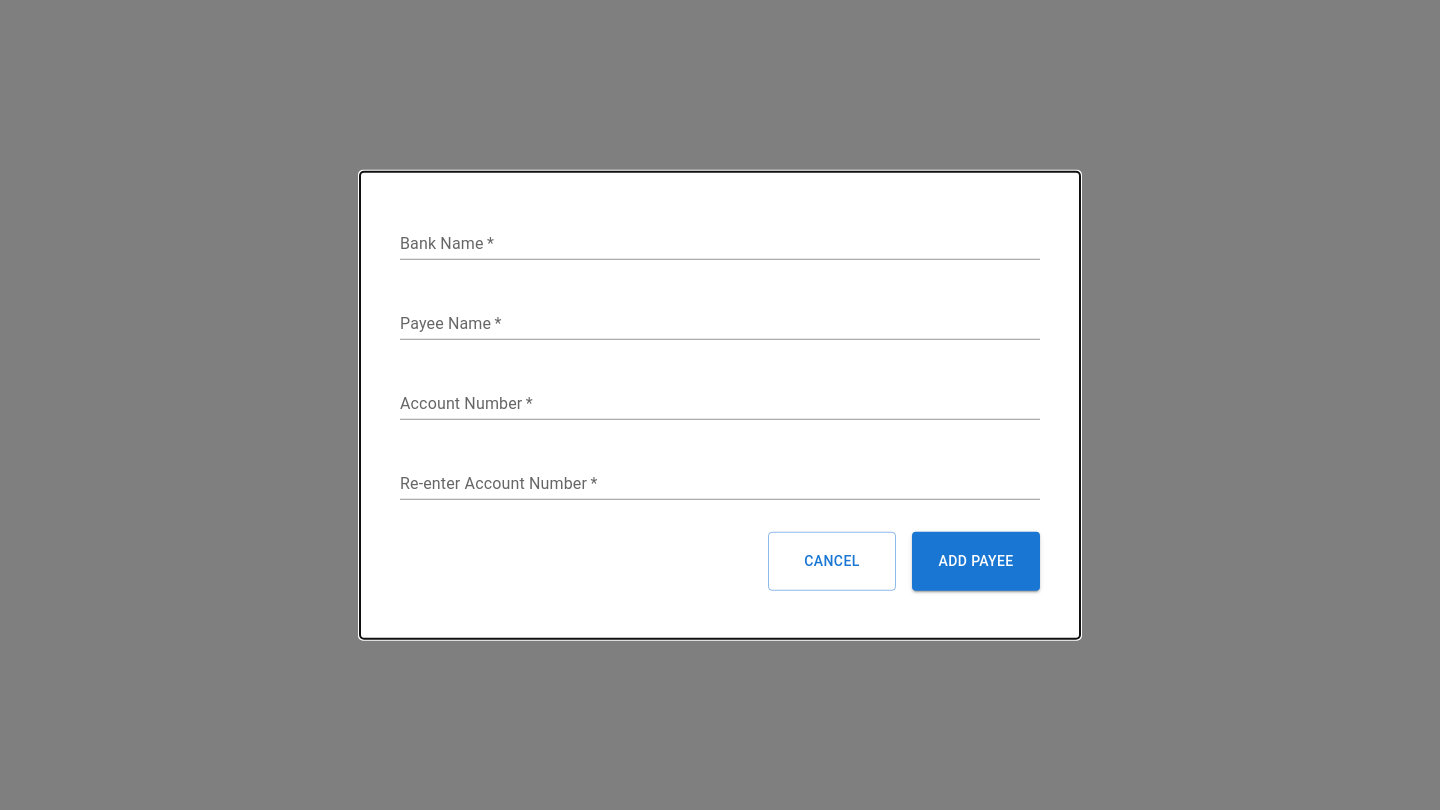
Test case: TS:1 - AddPayeeModal Component › TC:02 - should show error messages if form is not filled and trying to submit
The width and height of the screenshot is (1440, 810).
expect the field labelled "Bank Name *" is shown: met, box [400,228,1040,260]
expect the field labelled "Payee Name *" is shown: met, box [400,308,1040,340]
Click the button "Add Payee". click: (976, 561)
box: [912,532,1040,590]
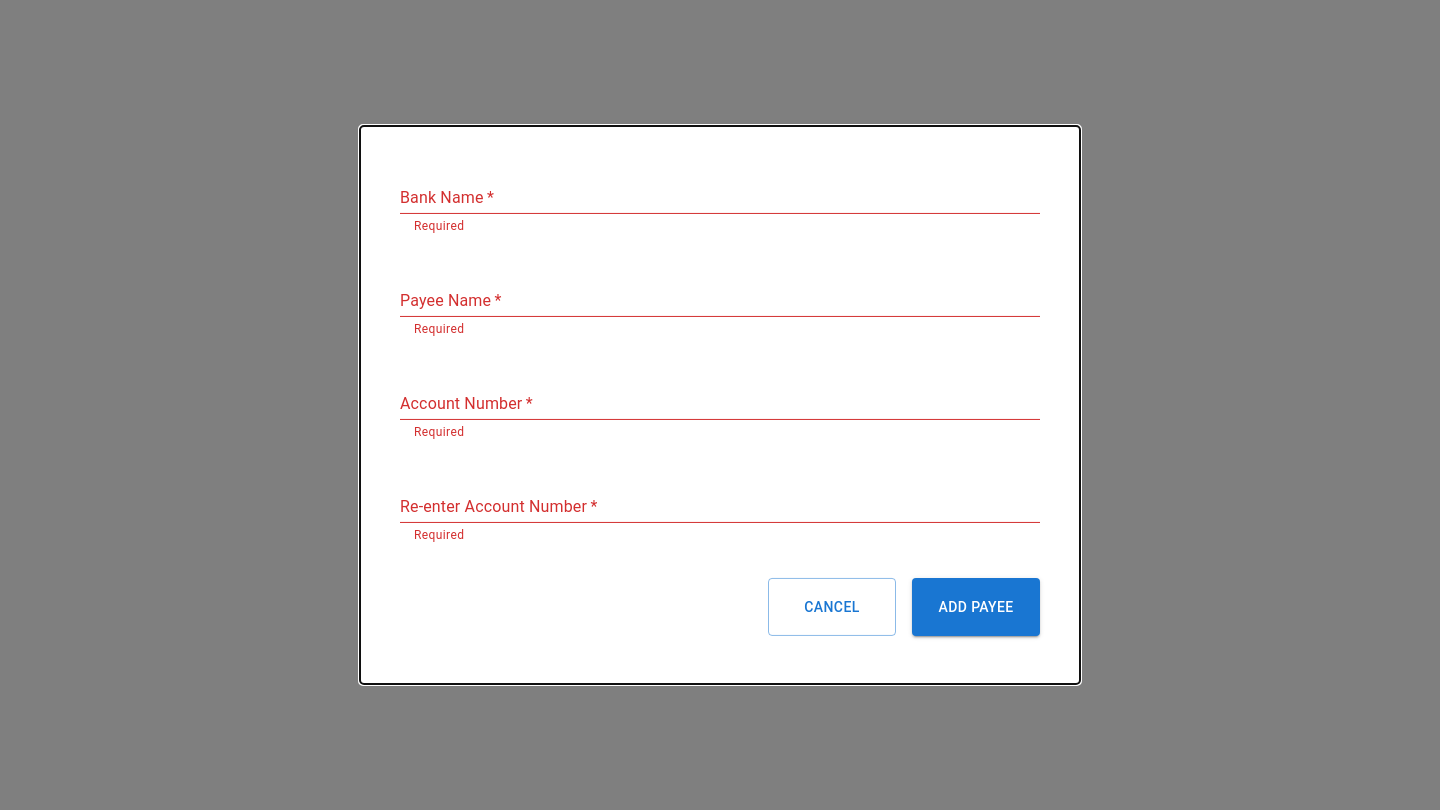
expect the text "Required" is shown 4 times: met, box [414,219,464,233]; [414,322,464,336]; [414,425,464,439]; [414,528,464,542]
